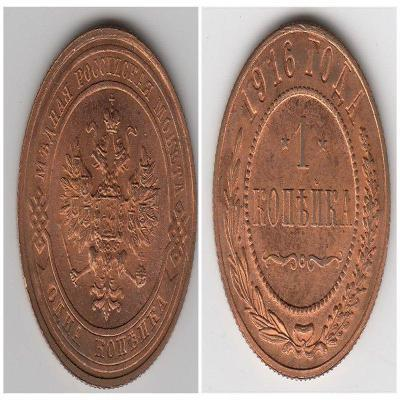numismatics: (18, 28, 197, 387), (213, 23, 390, 378)
